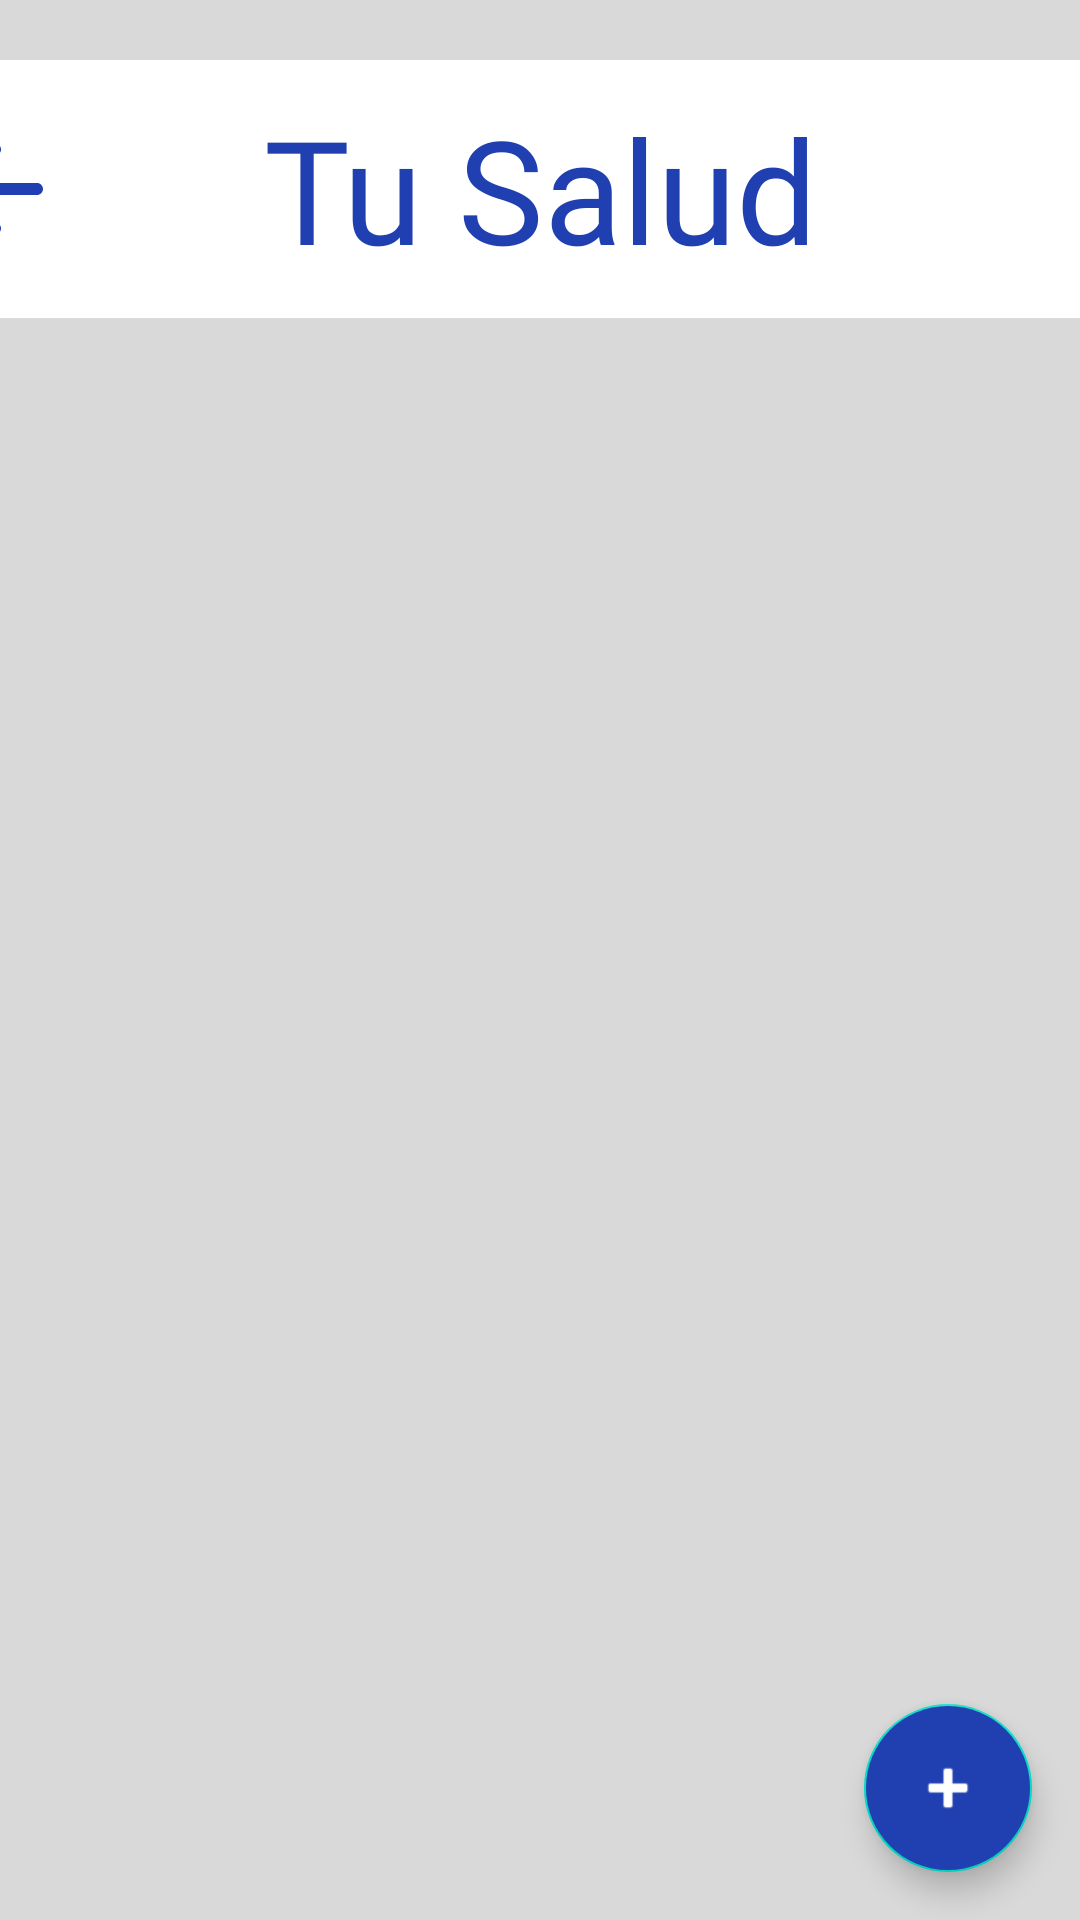

Icon click points for this 1080px×1920px phone screenshot, format [x,y]:
Agregar Actividad: [948,1788]
